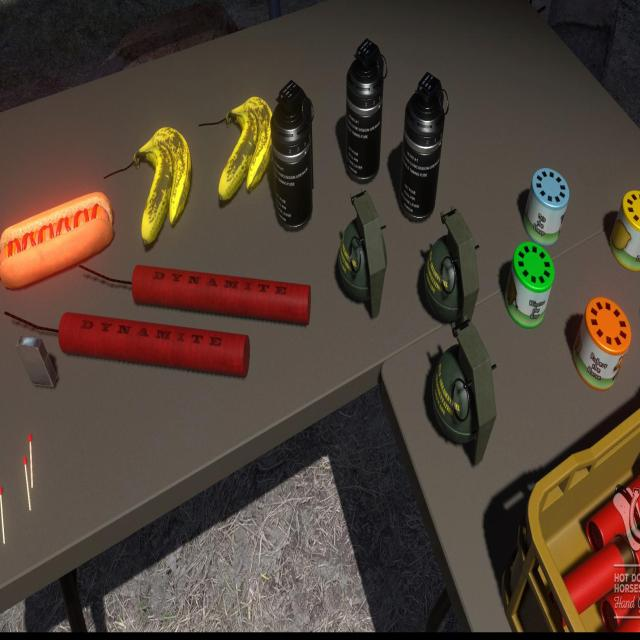grenade: (429, 319, 496, 469), (422, 202, 482, 332), (270, 74, 317, 235), (400, 69, 447, 222), (344, 36, 387, 183), (338, 191, 388, 316)
